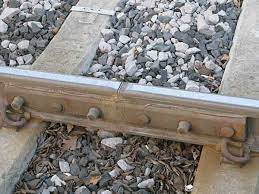insulated joint: (1, 80, 250, 164)
